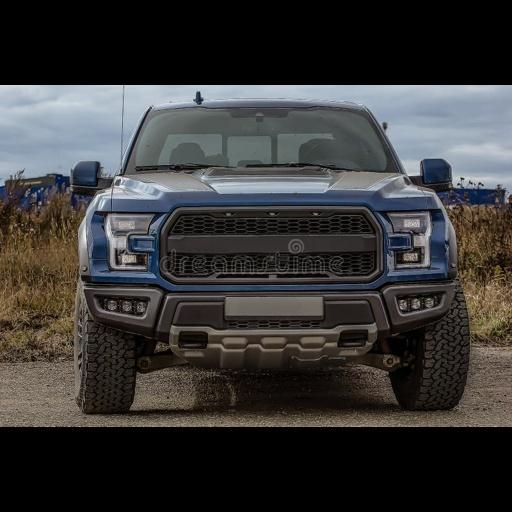truck: (71, 93, 469, 412)
